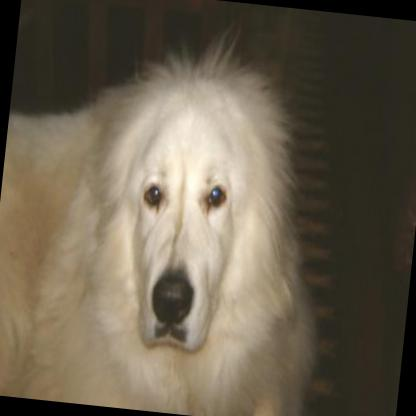Great_Pyrenees: (0, 11, 349, 416)
